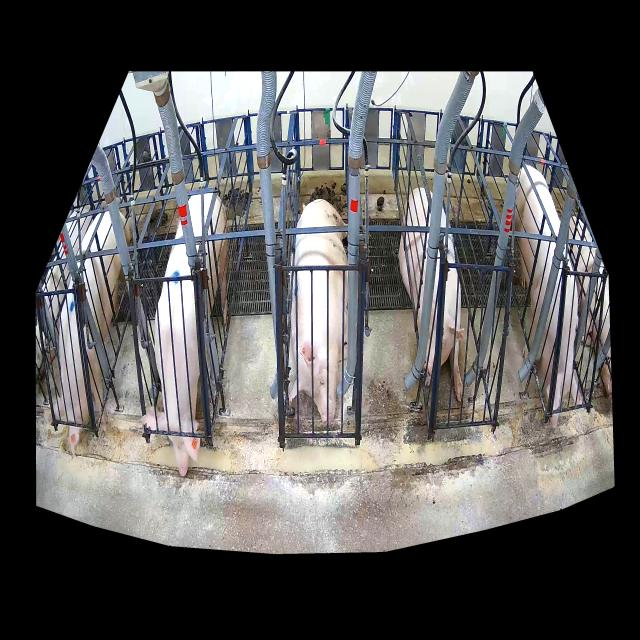pig: (141, 193, 228, 475), (54, 211, 130, 445), (514, 166, 581, 409), (398, 187, 464, 401), (288, 199, 348, 425)
